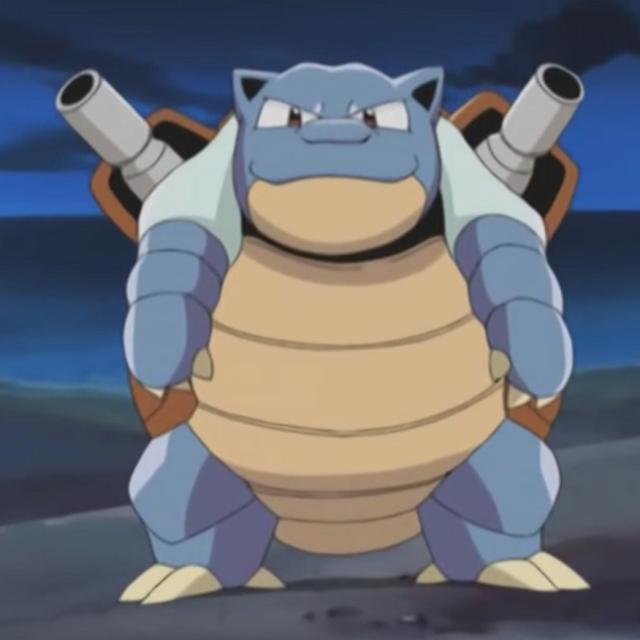Blastoise: (67, 36, 591, 618)
